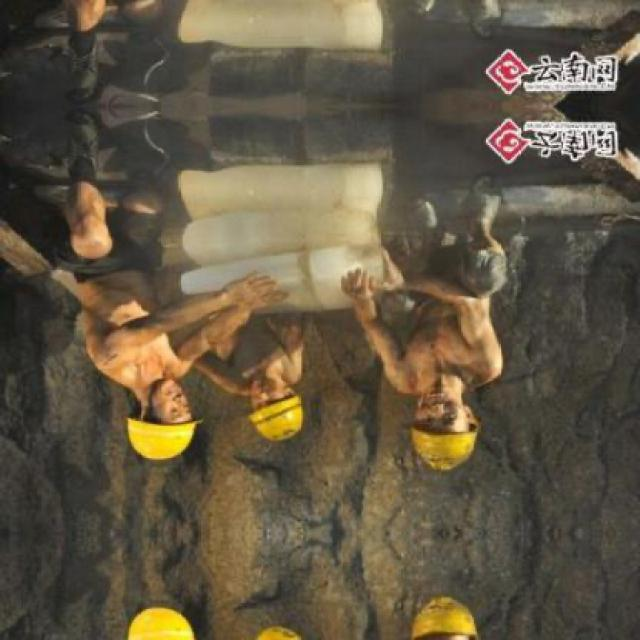con casco: (104, 324, 248, 483), (391, 368, 532, 468), (228, 348, 292, 445)
